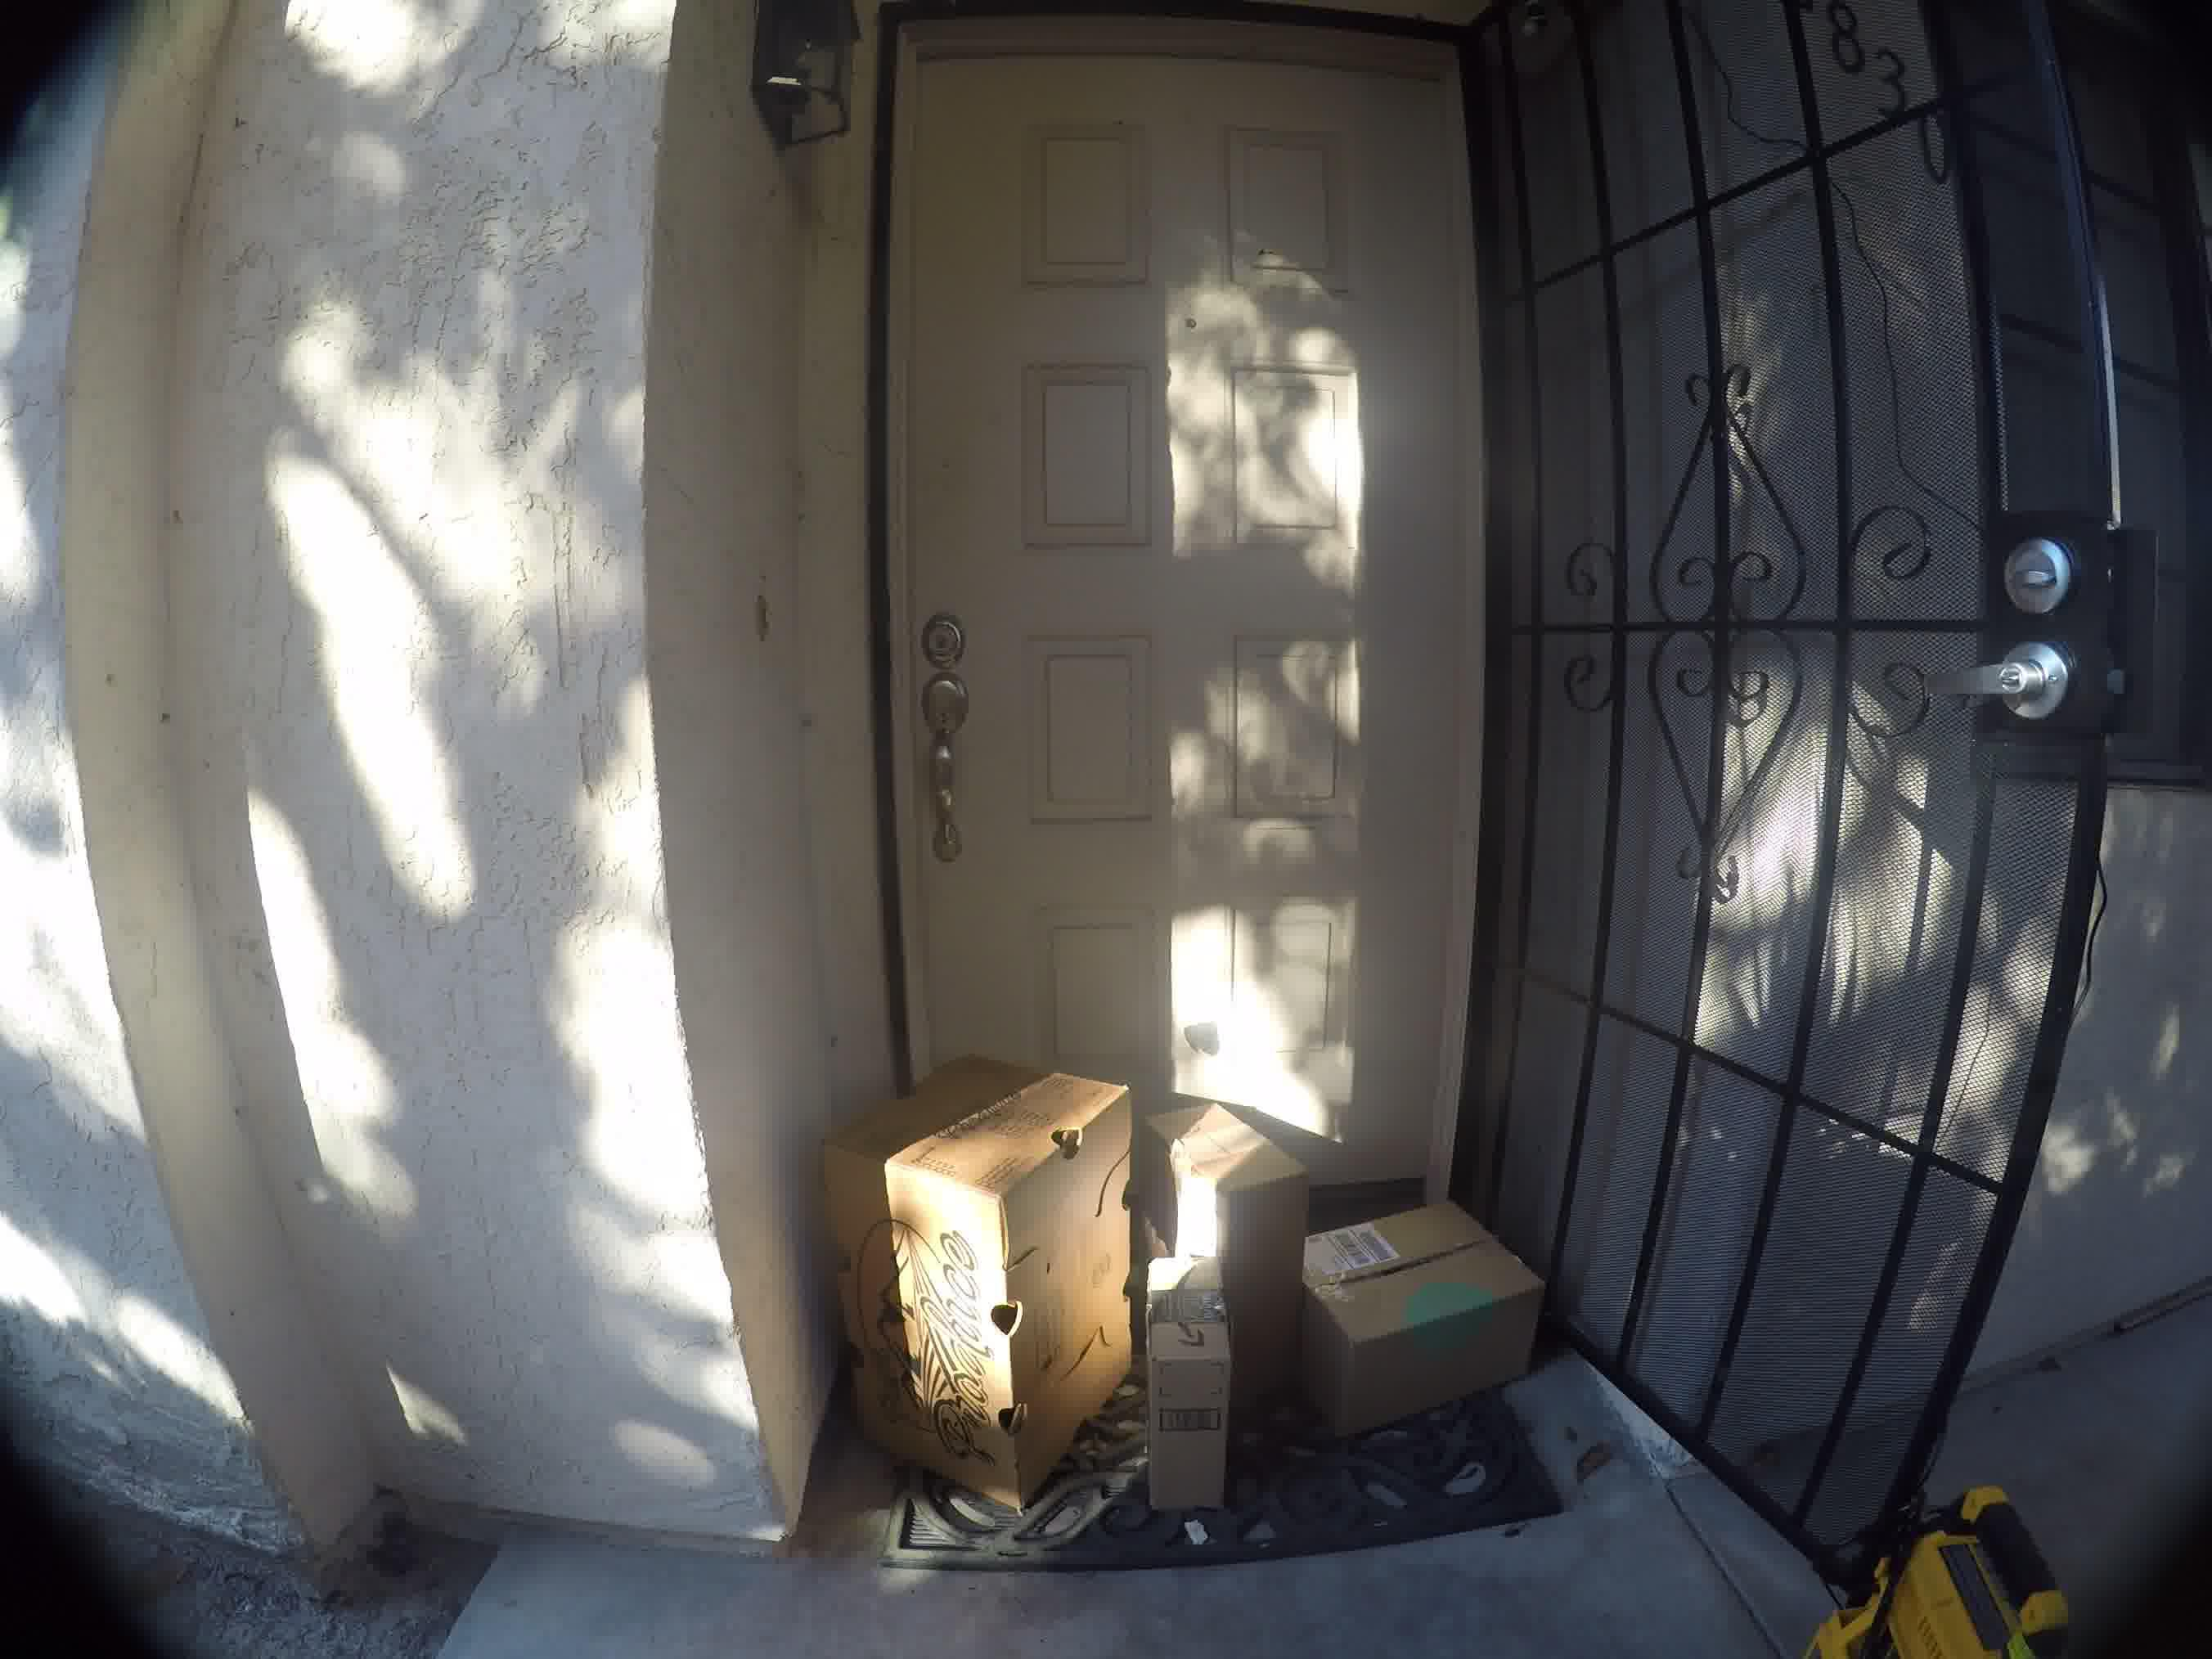box: (820, 1046, 1139, 1478), (1320, 1208, 1552, 1429), (1163, 1079, 1357, 1230), (1143, 1263, 1242, 1549)
